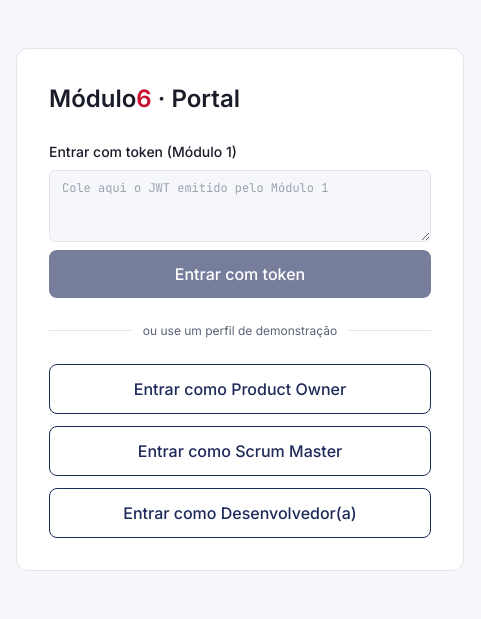
Test: LoginScreen › usa mensagem genérica para erros inesperados
Type "a.b.c" into the text box labelled "Entrar com token (Módulo 1)".
click(240, 206); type("a.b.c")  # box [49,170,431,242]
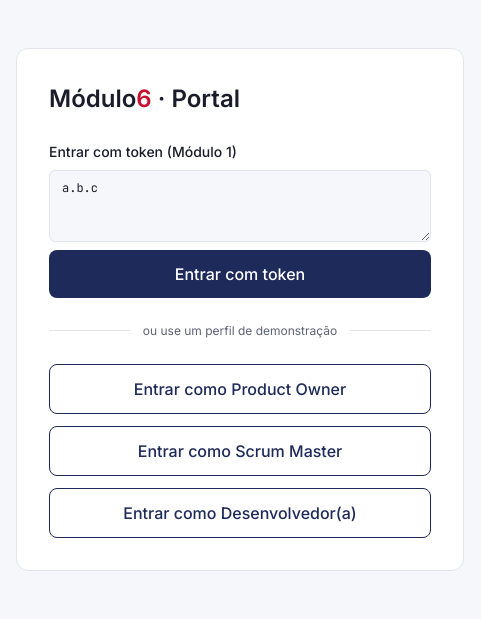
Click the button "Entrar com token".
click(240, 274)  # box [49,250,431,298]
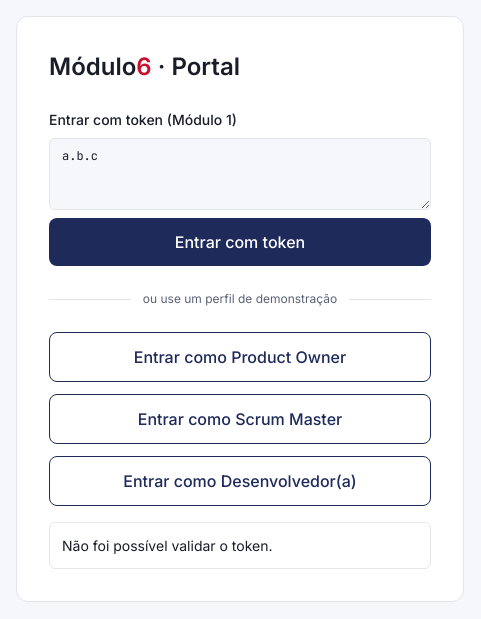
Result: the message reads "Não foi possível validar o token." at [62,537,272,554]
